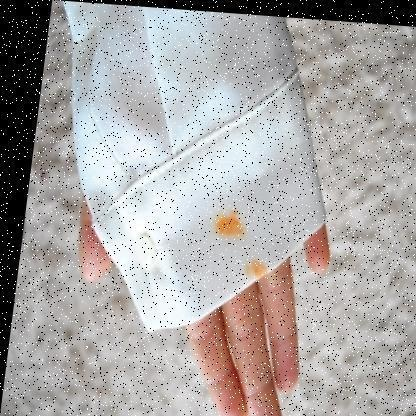kimchi: (217, 211, 242, 237), (248, 252, 271, 273)
